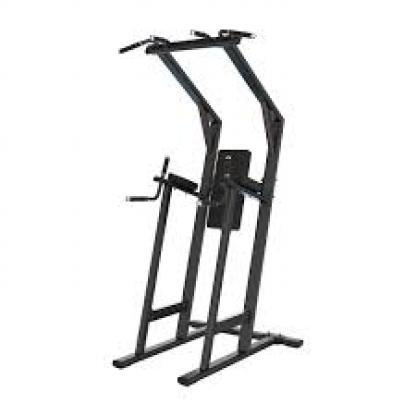chinning dipping: (111, 29, 304, 386)
